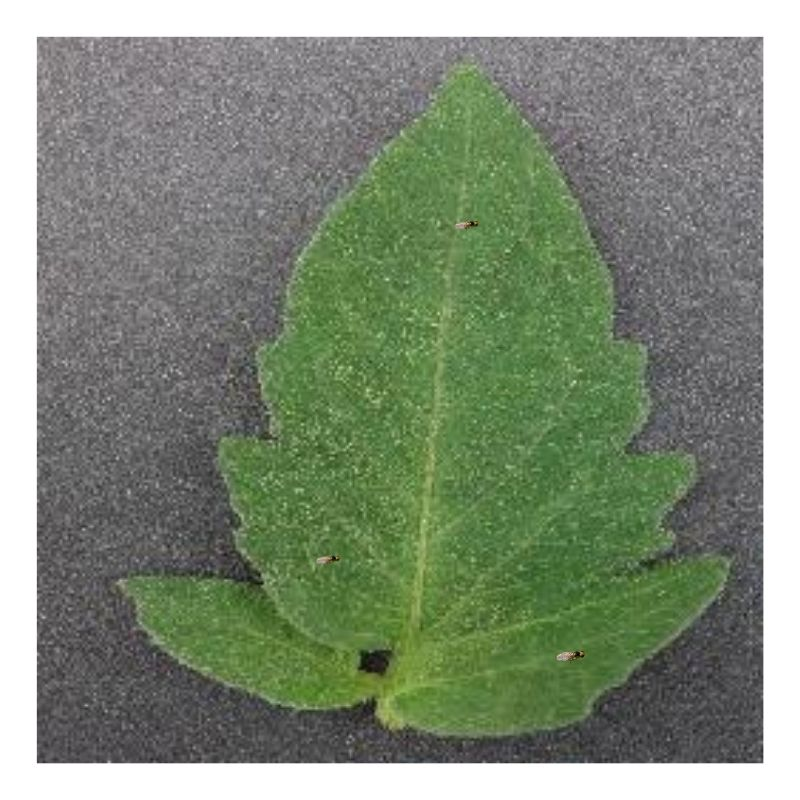liriomyza: (554, 647, 586, 665), (453, 216, 480, 232), (314, 552, 342, 567)
